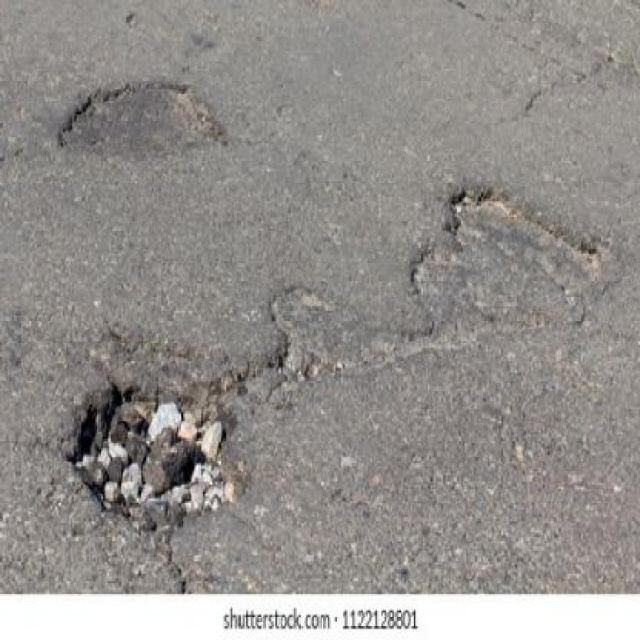Pothole: (57, 172, 605, 546), (50, 73, 227, 166)
